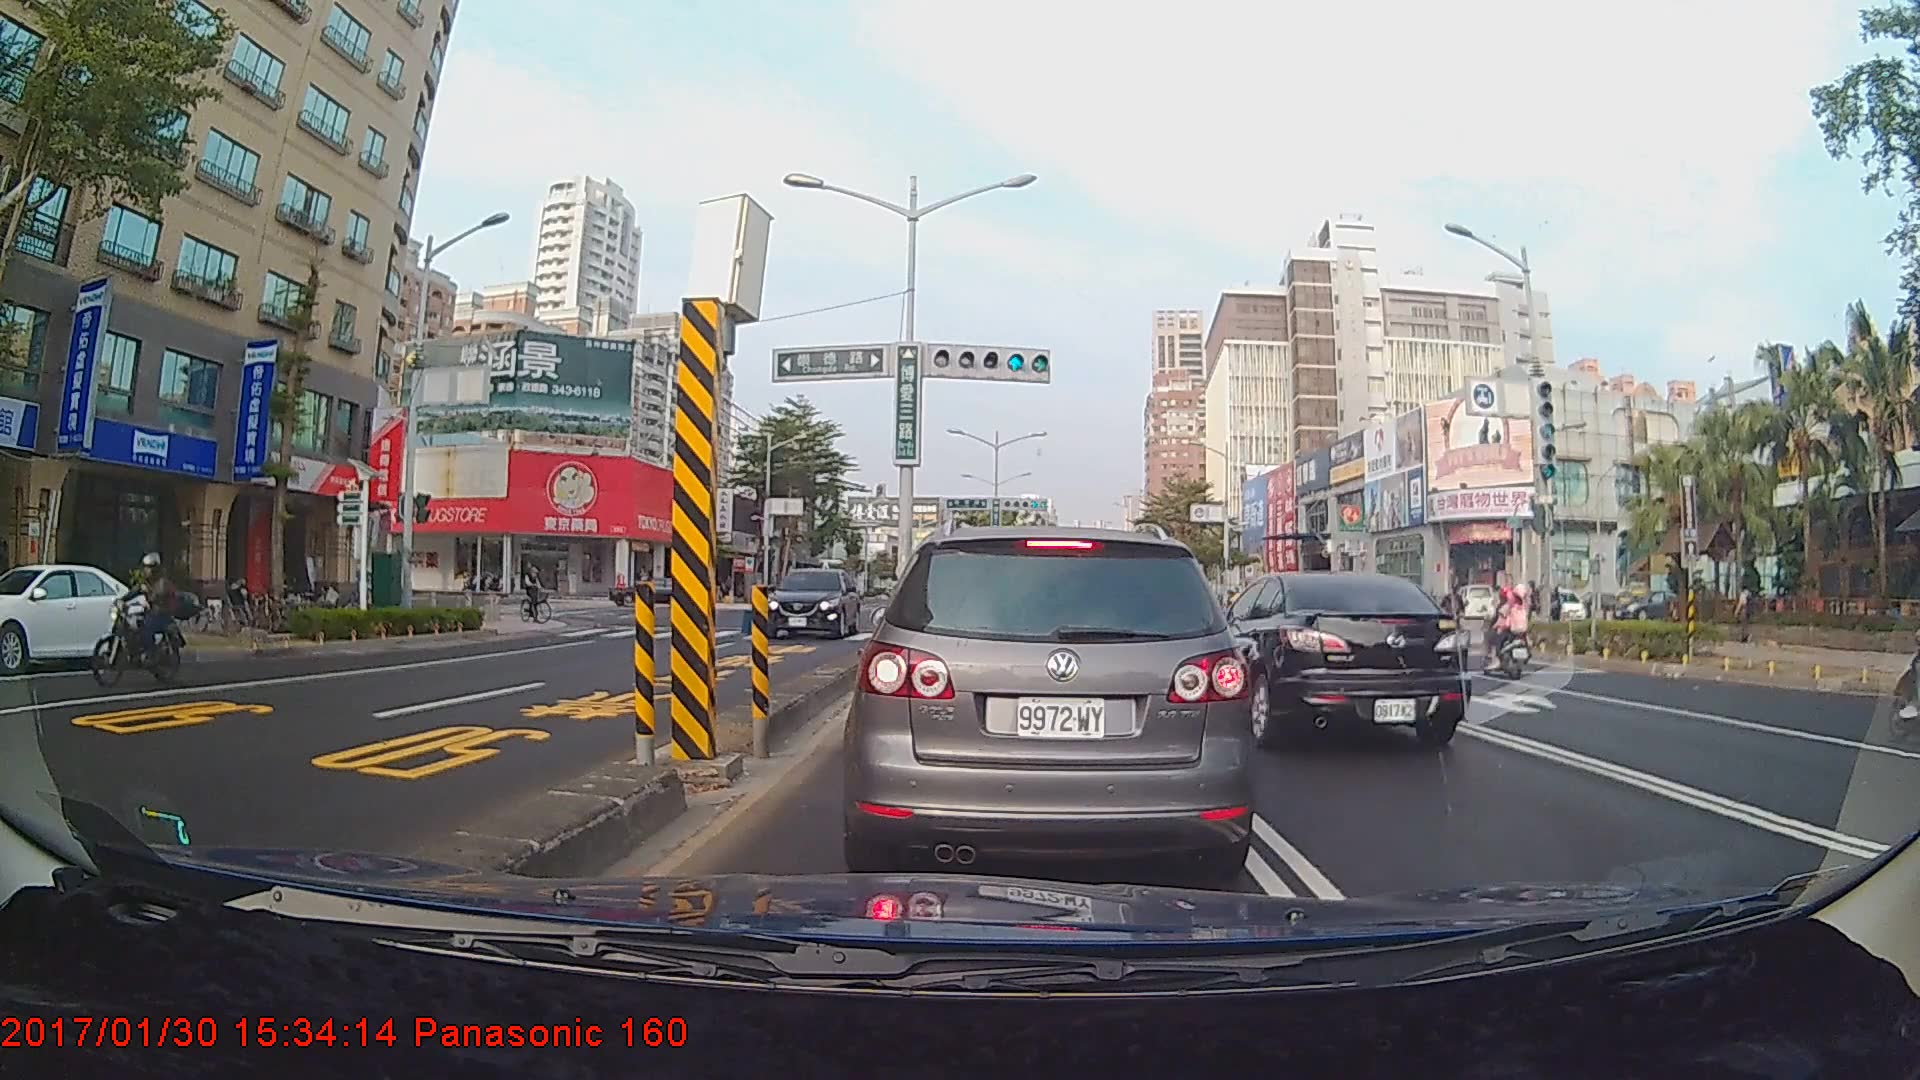pedestrian: (1732, 582, 1757, 646)
rider: (91, 549, 193, 690), (518, 559, 561, 629)
vehicle: (854, 524, 1247, 876), (1180, 568, 1476, 750), (0, 561, 160, 671), (763, 567, 862, 644), (606, 575, 710, 606)
